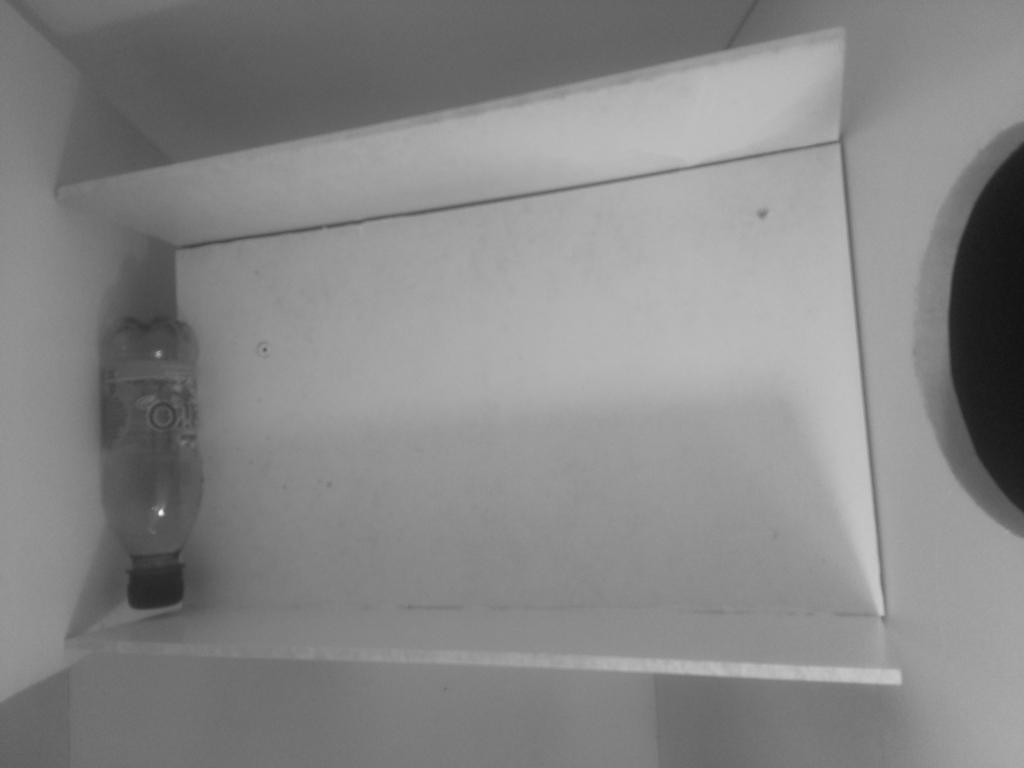bottle: (100, 316, 203, 613)
